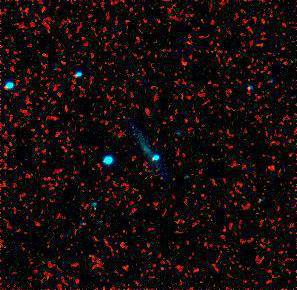star: (136, 141, 166, 171)
